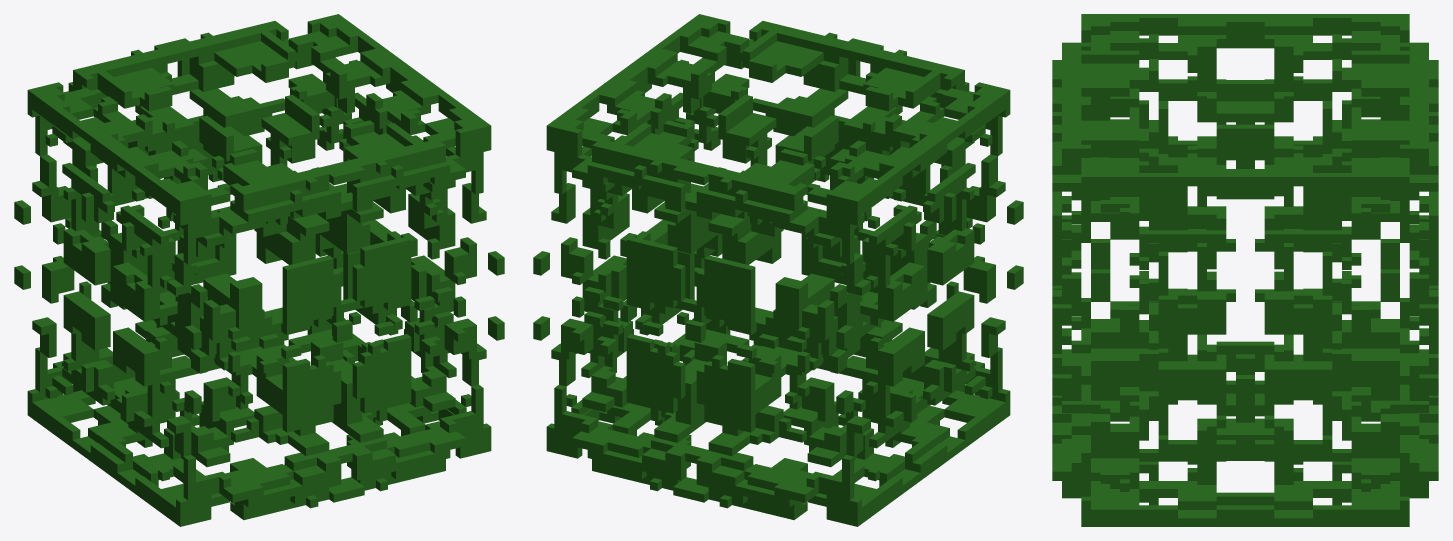
File: 绿色模型.obj
The picture shows the model from 3 angles, left to right: view 1: azimuth 30°, elevation 25°; view 2: azimuth 150°, elevation 25°; view 3: azimuth 270°, elevation 25°; orthographic projection. The views are drawn at different scales.
Visible parts, largest first — view 1: 绿色模型; view 2: 绿色模型; view 3: 绿色模型.
Boxes of the visible parts, box(x1,y1,x2,y2) form: 绿色模型: box(14, 14, 504, 526); 绿色模型: box(533, 14, 1023, 526); 绿色模型: box(1052, 14, 1438, 526).
Size of the model in its own units: 40 by 40 by 40.
Materials: 1 (1 with a texture image).
